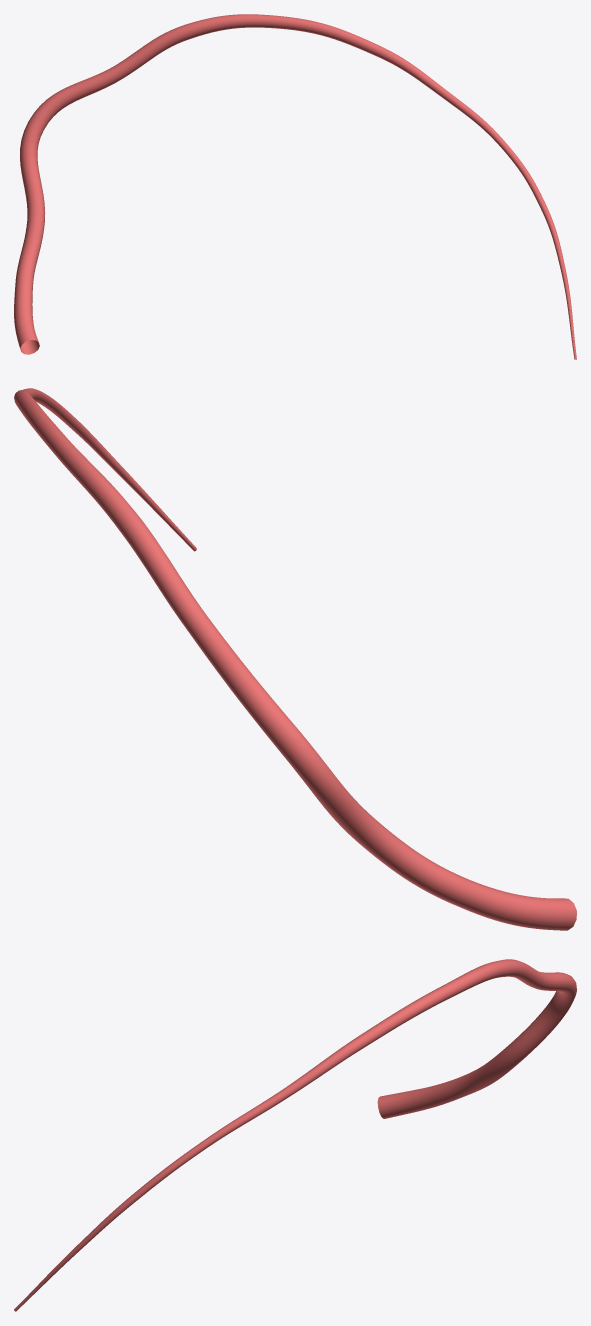
The model's file is Iliacus_branch_iliolumbar_artery_left.glb.
The picture shows the model from 3 angles, top to bottom: view 1: azimuth 30°, elevation 25°; view 2: azimuth 150°, elevation 25°; view 3: azimuth 270°, elevation 25°; orthographic projection. The views are drawn at different scales.
Parts seen in each view (by area): view 1: Iliacus_branch_of_iliolumbar_artery.l_BezierCurve.075; view 2: Iliacus_branch_of_iliolumbar_artery.l_BezierCurve.075; view 3: Iliacus_branch_of_iliolumbar_artery.l_BezierCurve.075.
Boxes of the visible parts, left/top/right/bottom form: Iliacus_branch_of_iliolumbar_artery.l_BezierCurve.075: left=14, top=14, right=576, bottom=359; Iliacus_branch_of_iliolumbar_artery.l_BezierCurve.075: left=14, top=388, right=576, bottom=930; Iliacus_branch_of_iliolumbar_artery.l_BezierCurve.075: left=14, top=959, right=576, bottom=1311.
Bounding box in the file's own units: 0.095 × 0.0546 × 0.0969.
